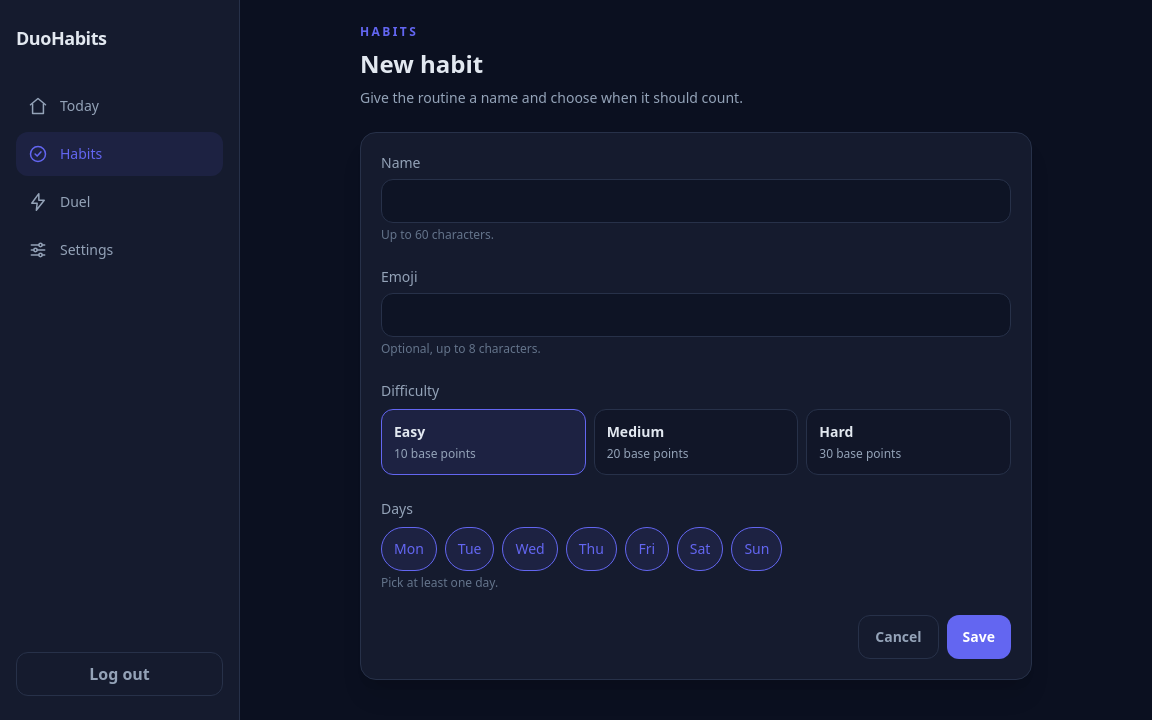
HabitFormPage › creates a habit with the selected difficulty and weekdays
The width and height of the screenshot is (1152, 720).
Expected: the heading "New habit" is shown, [360,47,483,80]
Type "Read 20 pages" into the field labelled "Name" at (696, 201), box [381,179,1011,223]
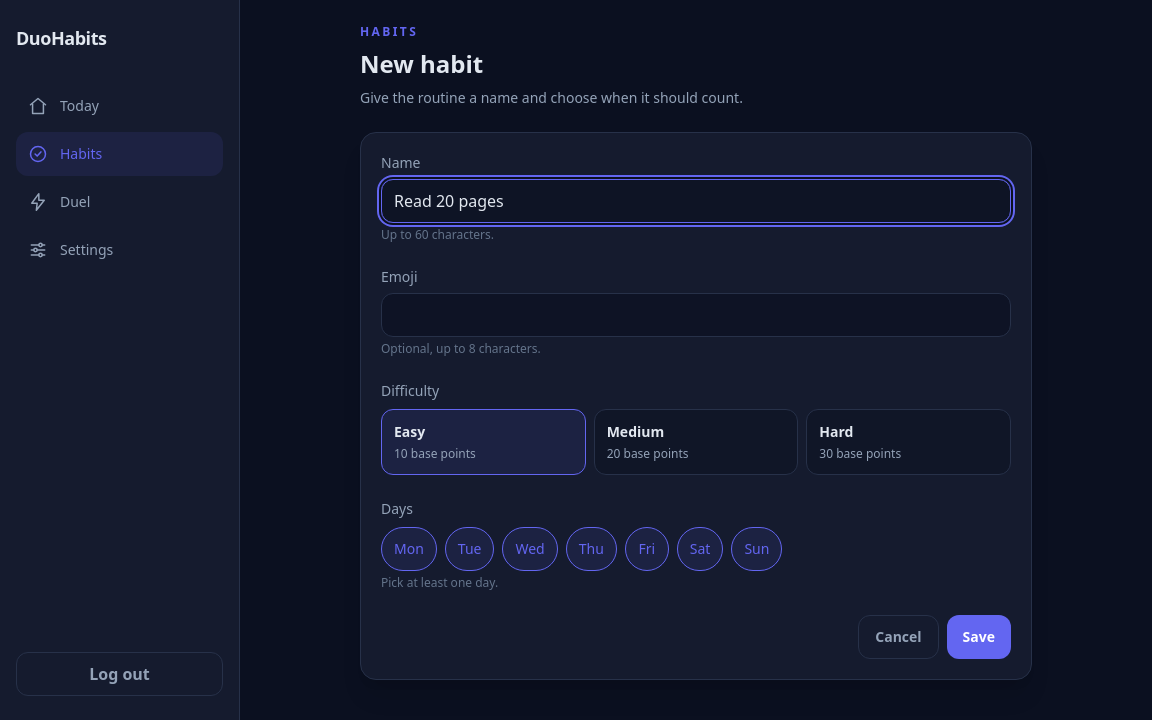
Type "📚" into the field labelled "Emoji" at (696, 315), box [381,293,1011,337]
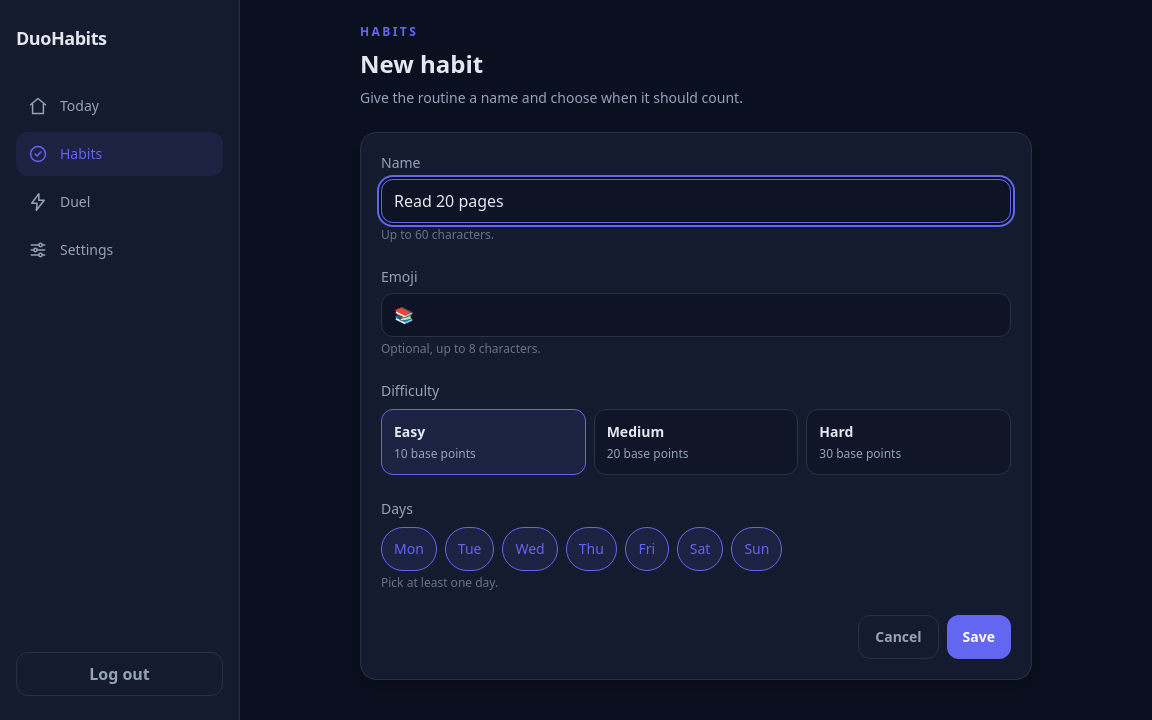
Click the radio button labelled "Hard 30 base points" at (909, 442), box [806,409,1011,475]
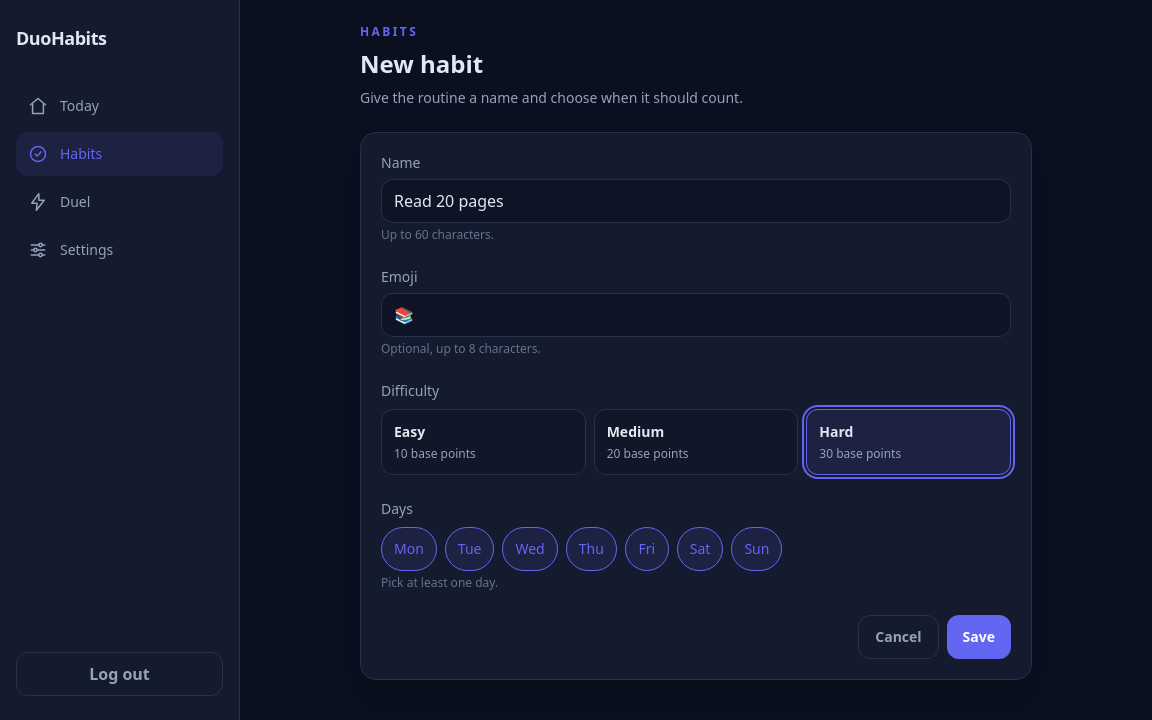
Click the checkbox named "Monday" at (409, 549), box [381,527,437,571]
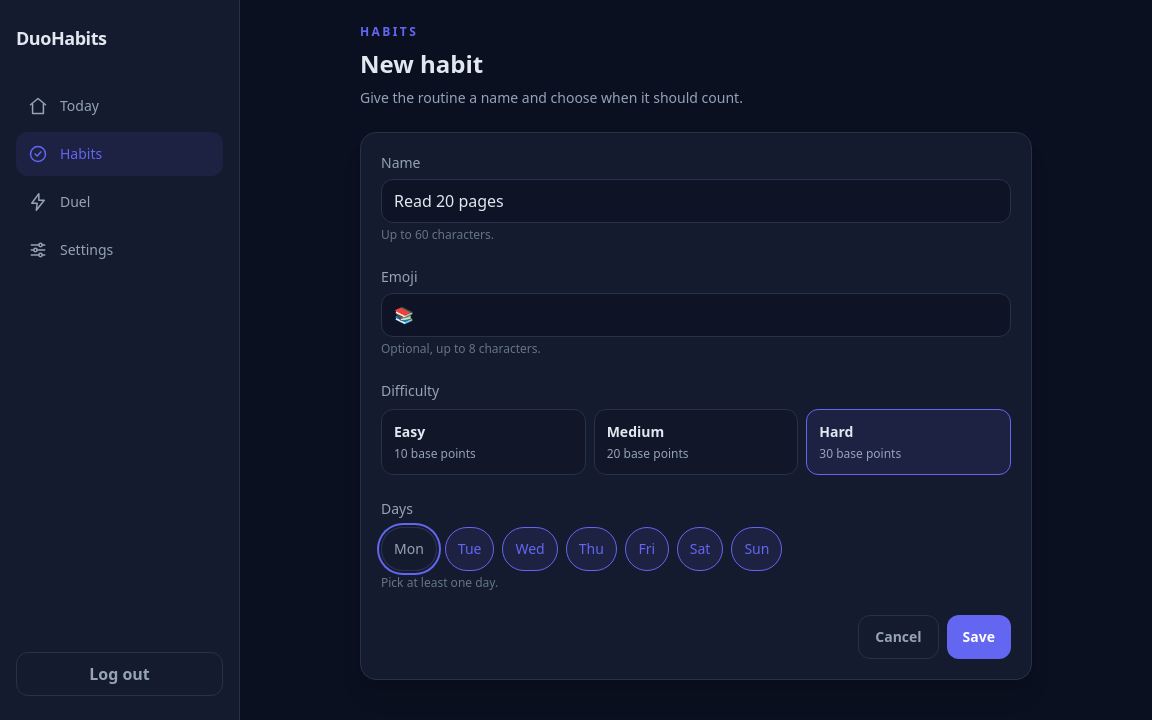
Click the checkbox named "Tuesday" at (470, 549), box [445,527,494,571]
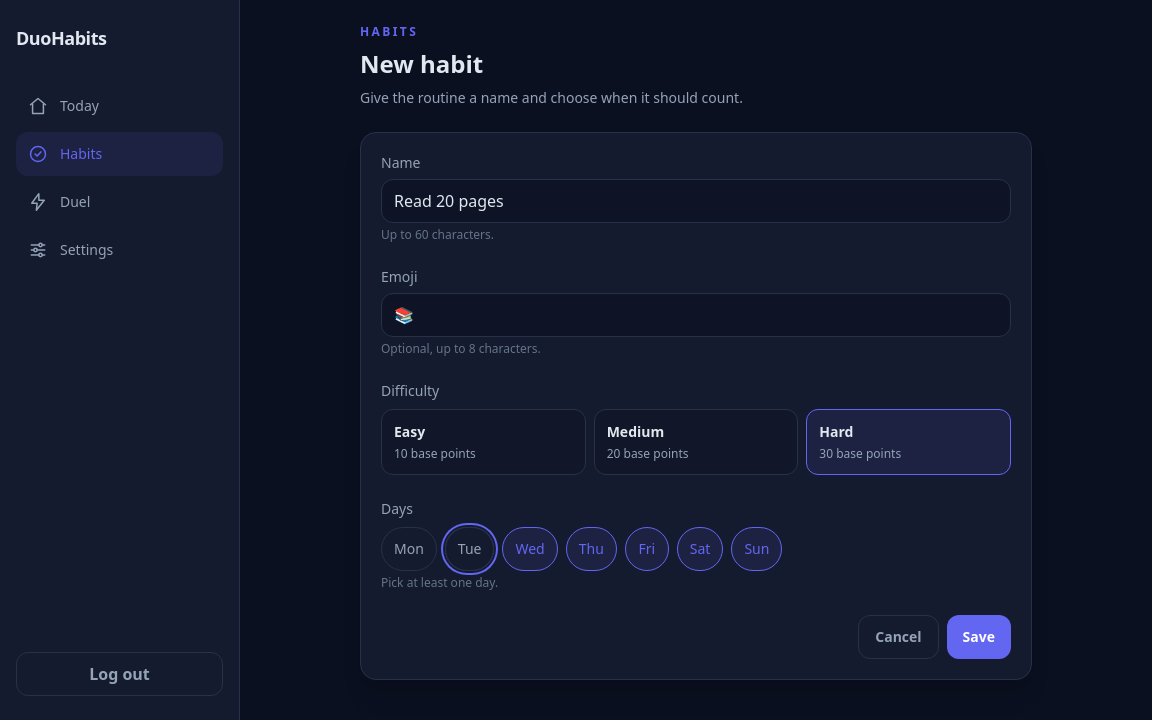
Click the button "Save" at (979, 637), box [947,615,1011,659]
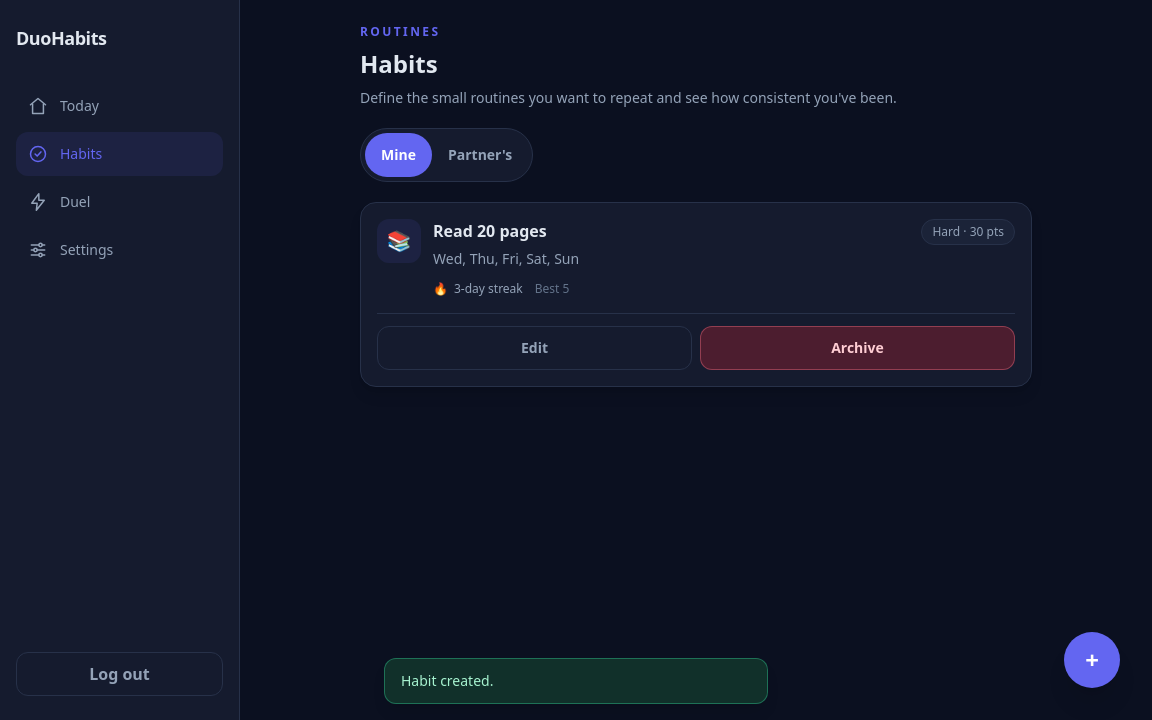
Expected: the text "Habit created." is shown, [384,658,768,704]
Expected: the heading "Habits" is shown, [360,47,438,80]
Expected: the heading "Read 20 pages" is shown, [433,219,547,243]
